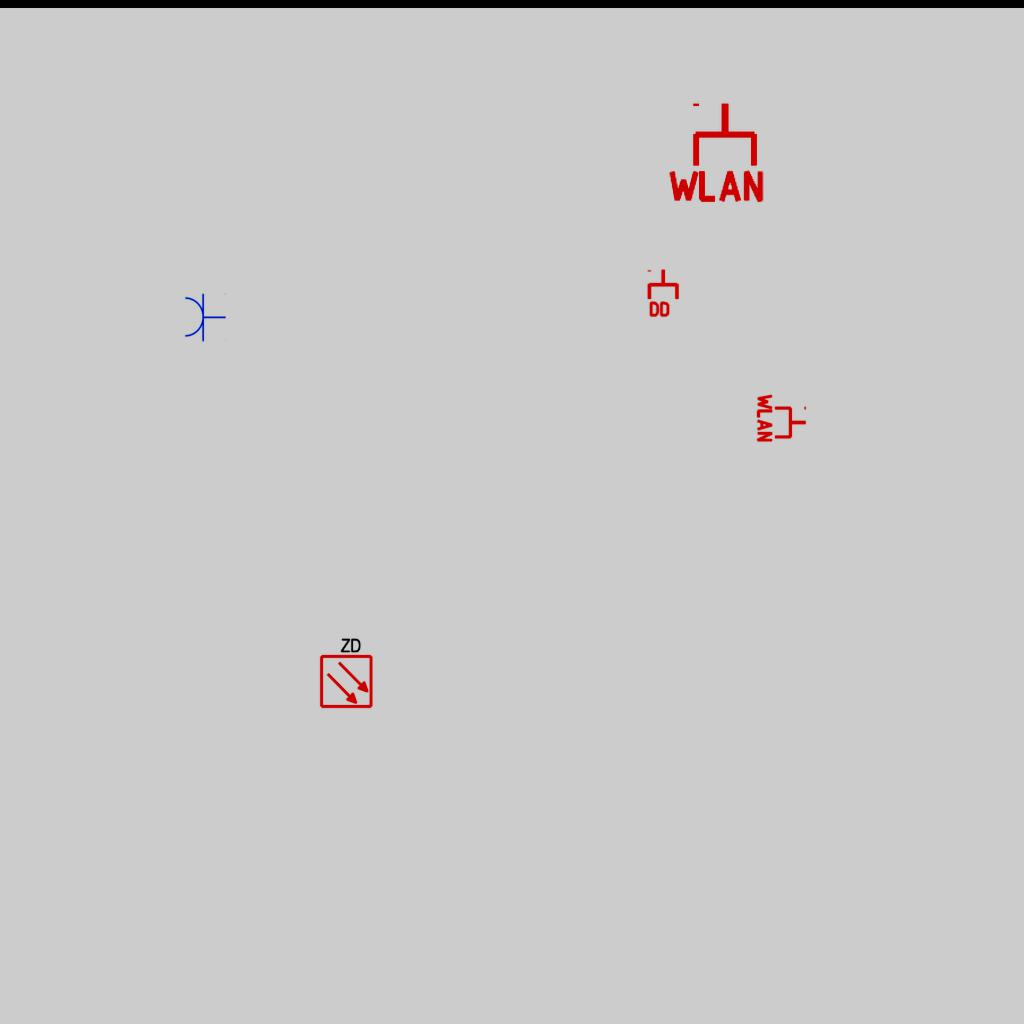Datenanschluss_zweifach: (647, 268, 681, 319)
Schukosteckdose_einfach: (183, 292, 226, 342)
WLAN: (664, 99, 768, 204), (756, 392, 808, 444)
ZD_Melder_in_Zwischendecke_mit_Revisionsoeffnung_mind_40_x_40_cm: (317, 635, 374, 709)
